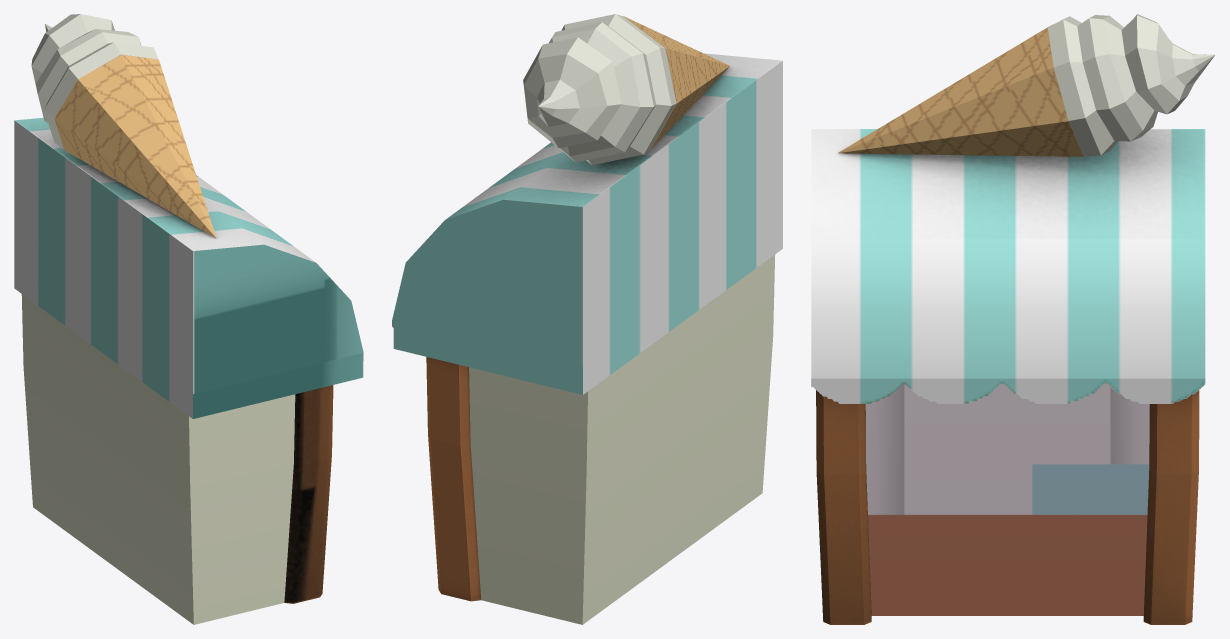
The model's file is FS_IceCreamStore.fbx.
The picture shows the model from 3 angles, left to right: view 1: azimuth 30°, elevation 25°; view 2: azimuth 150°, elevation 25°; view 3: azimuth 270°, elevation 25°; orthographic projection. The views are drawn at different scales.
Visible parts, largest first — view 1: roof1, shop1, cone, pillars, icecreeam; view 2: roof1, shop1, icecreeam, pillars, cone; view 3: roof1, shop1, pillars, cone, icecreeam.
Boxes of the visible parts, x1,y1,x2,y2 form: roof1: (14, 117, 363, 418); shop1: (21, 294, 295, 624); cone: (54, 54, 216, 238); pillars: (284, 385, 333, 603); icecreeam: (31, 14, 158, 148); roof1: (392, 53, 782, 394); shop1: (469, 254, 775, 624); icecreeam: (523, 14, 676, 165); pillars: (426, 357, 481, 601); cone: (623, 16, 729, 149); roof1: (811, 129, 1205, 403); shop1: (865, 384, 1149, 615); pillars: (816, 390, 1199, 624); cone: (837, 25, 1083, 156); icecreeam: (1047, 14, 1215, 156).
Size of the model in its own units: 81.97 by 202 by 133.
1 material, 1 textured.
